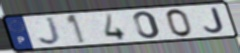0: (165, 8, 194, 38), (132, 11, 161, 40)
1: (65, 13, 88, 45)
4: (102, 12, 129, 42)
J: (37, 16, 64, 46), (202, 7, 226, 34)
